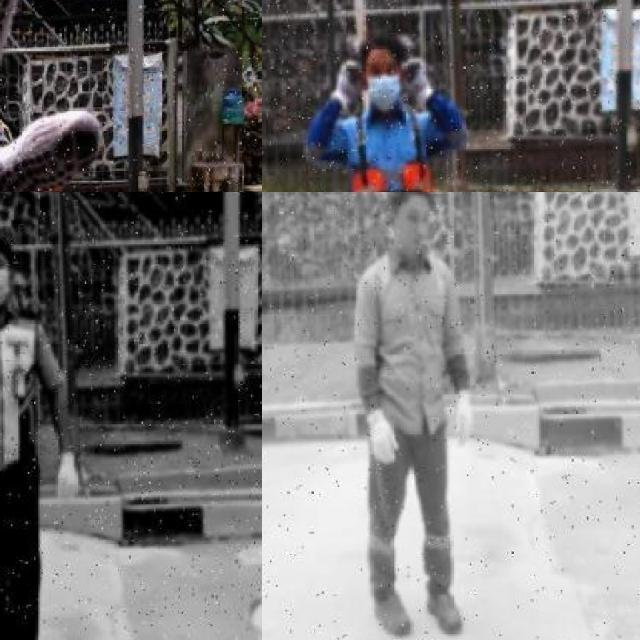apron: (0, 0, 109, 192), (361, 401, 403, 468), (451, 384, 480, 452), (329, 60, 366, 112), (398, 58, 434, 109), (54, 451, 80, 506)
